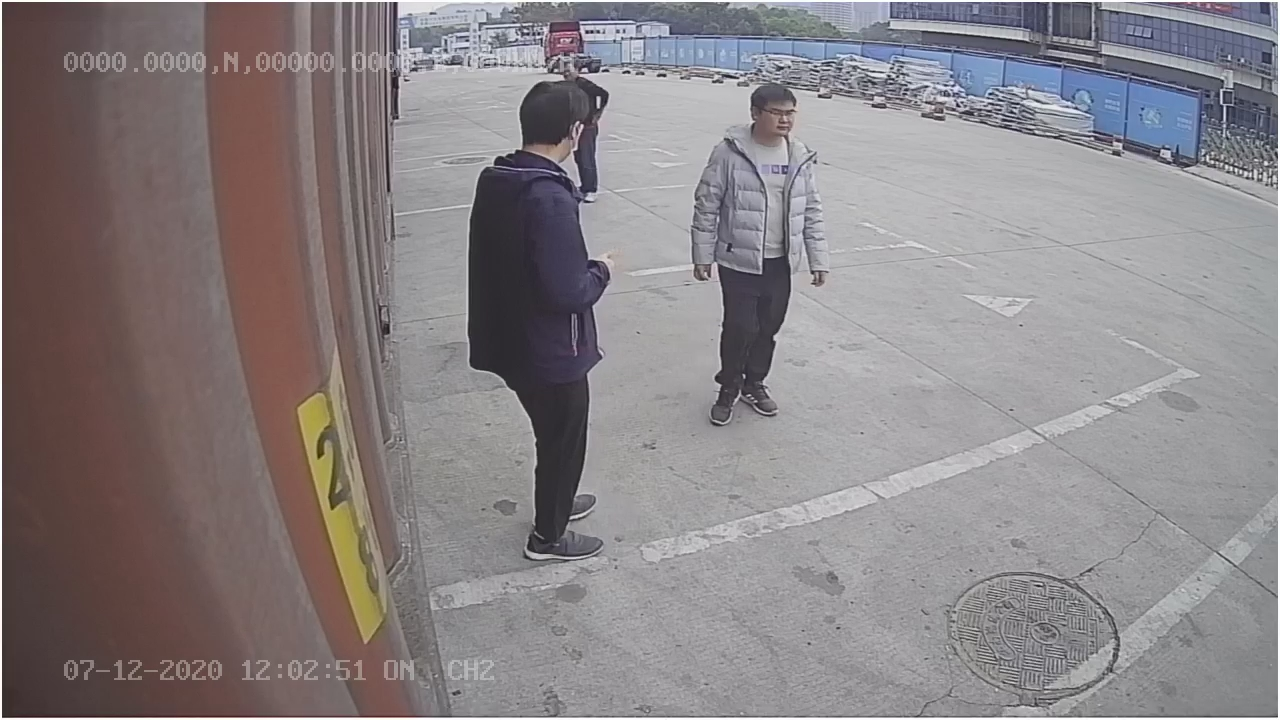person: (463, 79, 619, 562), (689, 73, 835, 423)
